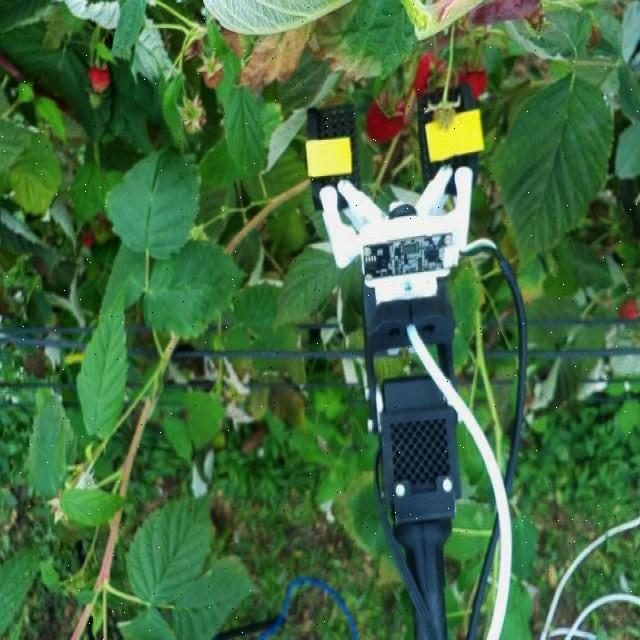Riped berries: (363, 86, 405, 142), (415, 44, 448, 98), (459, 57, 494, 99), (86, 60, 110, 95)
